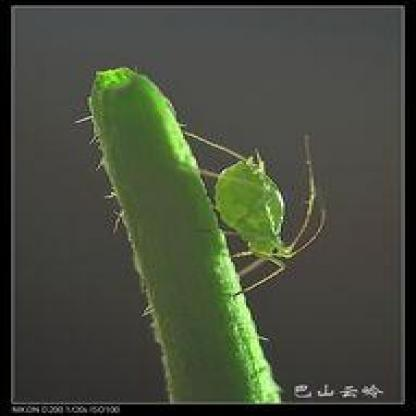aphid: (174, 113, 328, 294)
